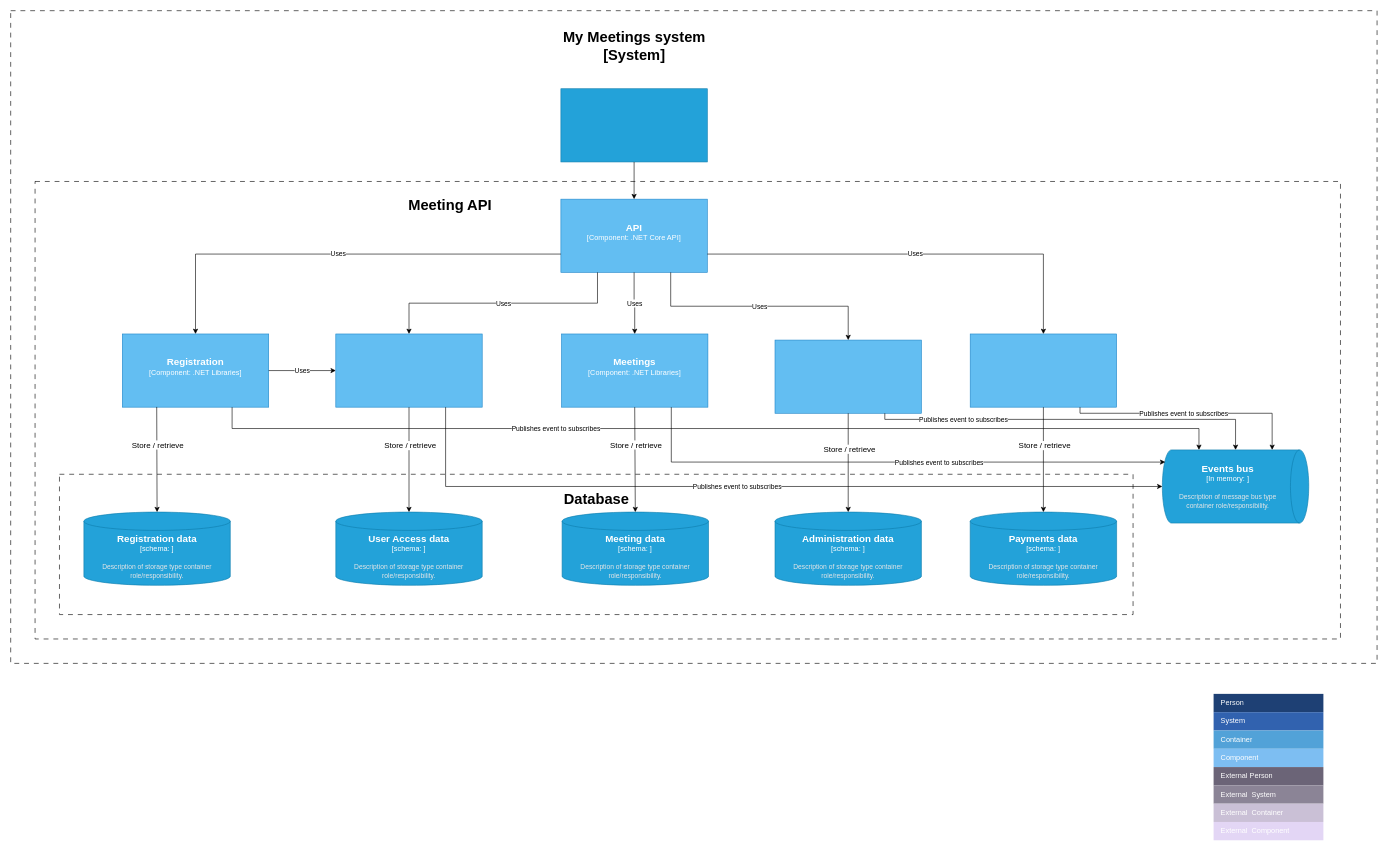
Some shapes in this 1388 by 851 pixel diagram are drawn without their labels. The box of each missing label's shape, as (x1, y1, x2, y2) in pixels:
Administration [Component: .NET Libraries]: (774, 339, 921, 413)
Legend: (1213, 675, 1323, 840)
Payments [Component: .NET Libraries]: (970, 333, 1117, 407)
SPA [SPA: ReactJS] GUI for the application: (560, 88, 707, 162)
User Access [Component: .NET Libraries]: (335, 333, 482, 407)
